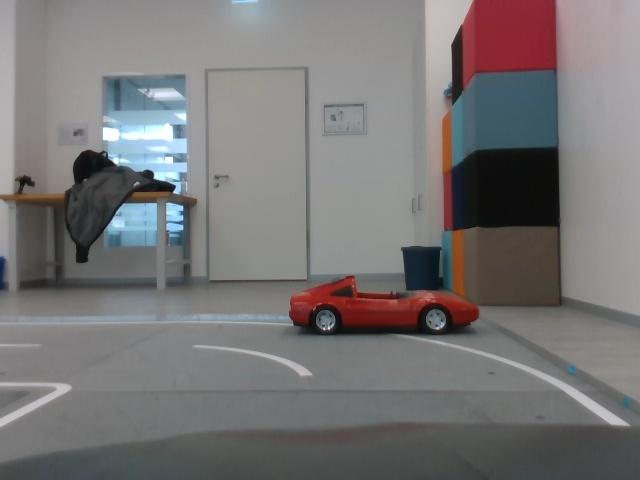car: (290, 271, 484, 337)
